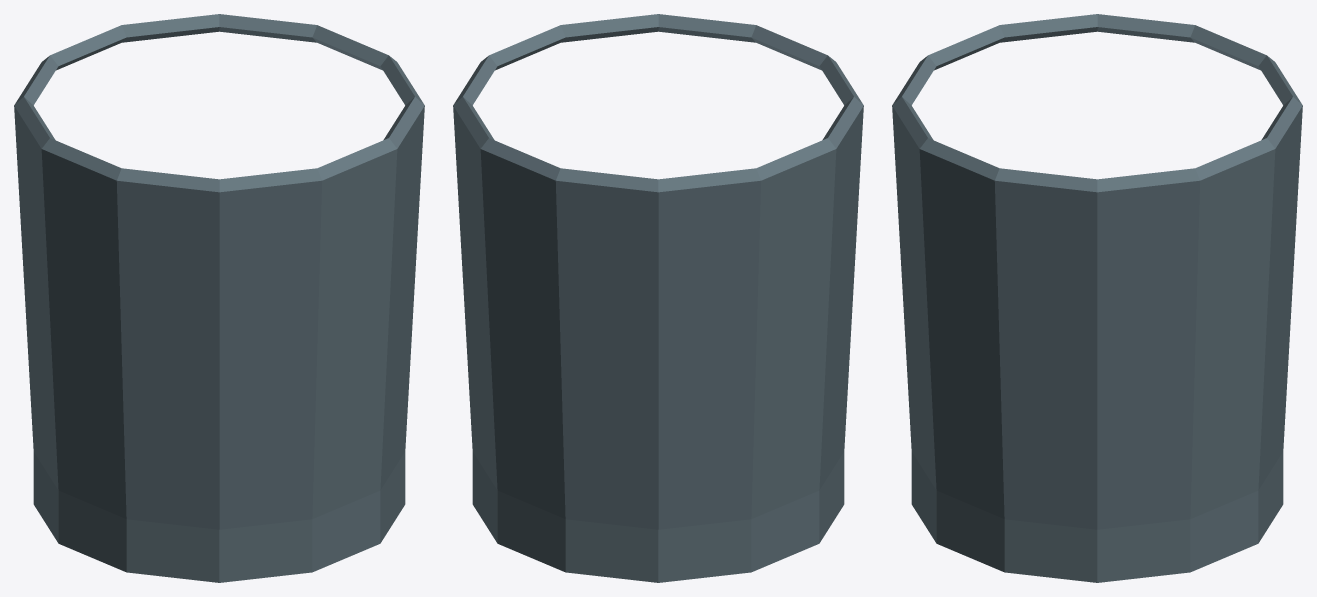
Rendered from pahar_whiskey.glb.
3 renders of one model, left to right at view 1: azimuth 30°, elevation 25°; view 2: azimuth 150°, elevation 25°; view 3: azimuth 270°, elevation 25°, orthographic.
Visible parts, largest first — view 1: Geam; view 2: Geam; view 3: Geam.
Part boxes in pixels (<box>): Geam: <box>14,14,424,582</box>; Geam: <box>453,14,863,582</box>; Geam: <box>892,14,1302,582</box>.
Size of the model in its own units: 0.084 by 0.092 by 0.084.
